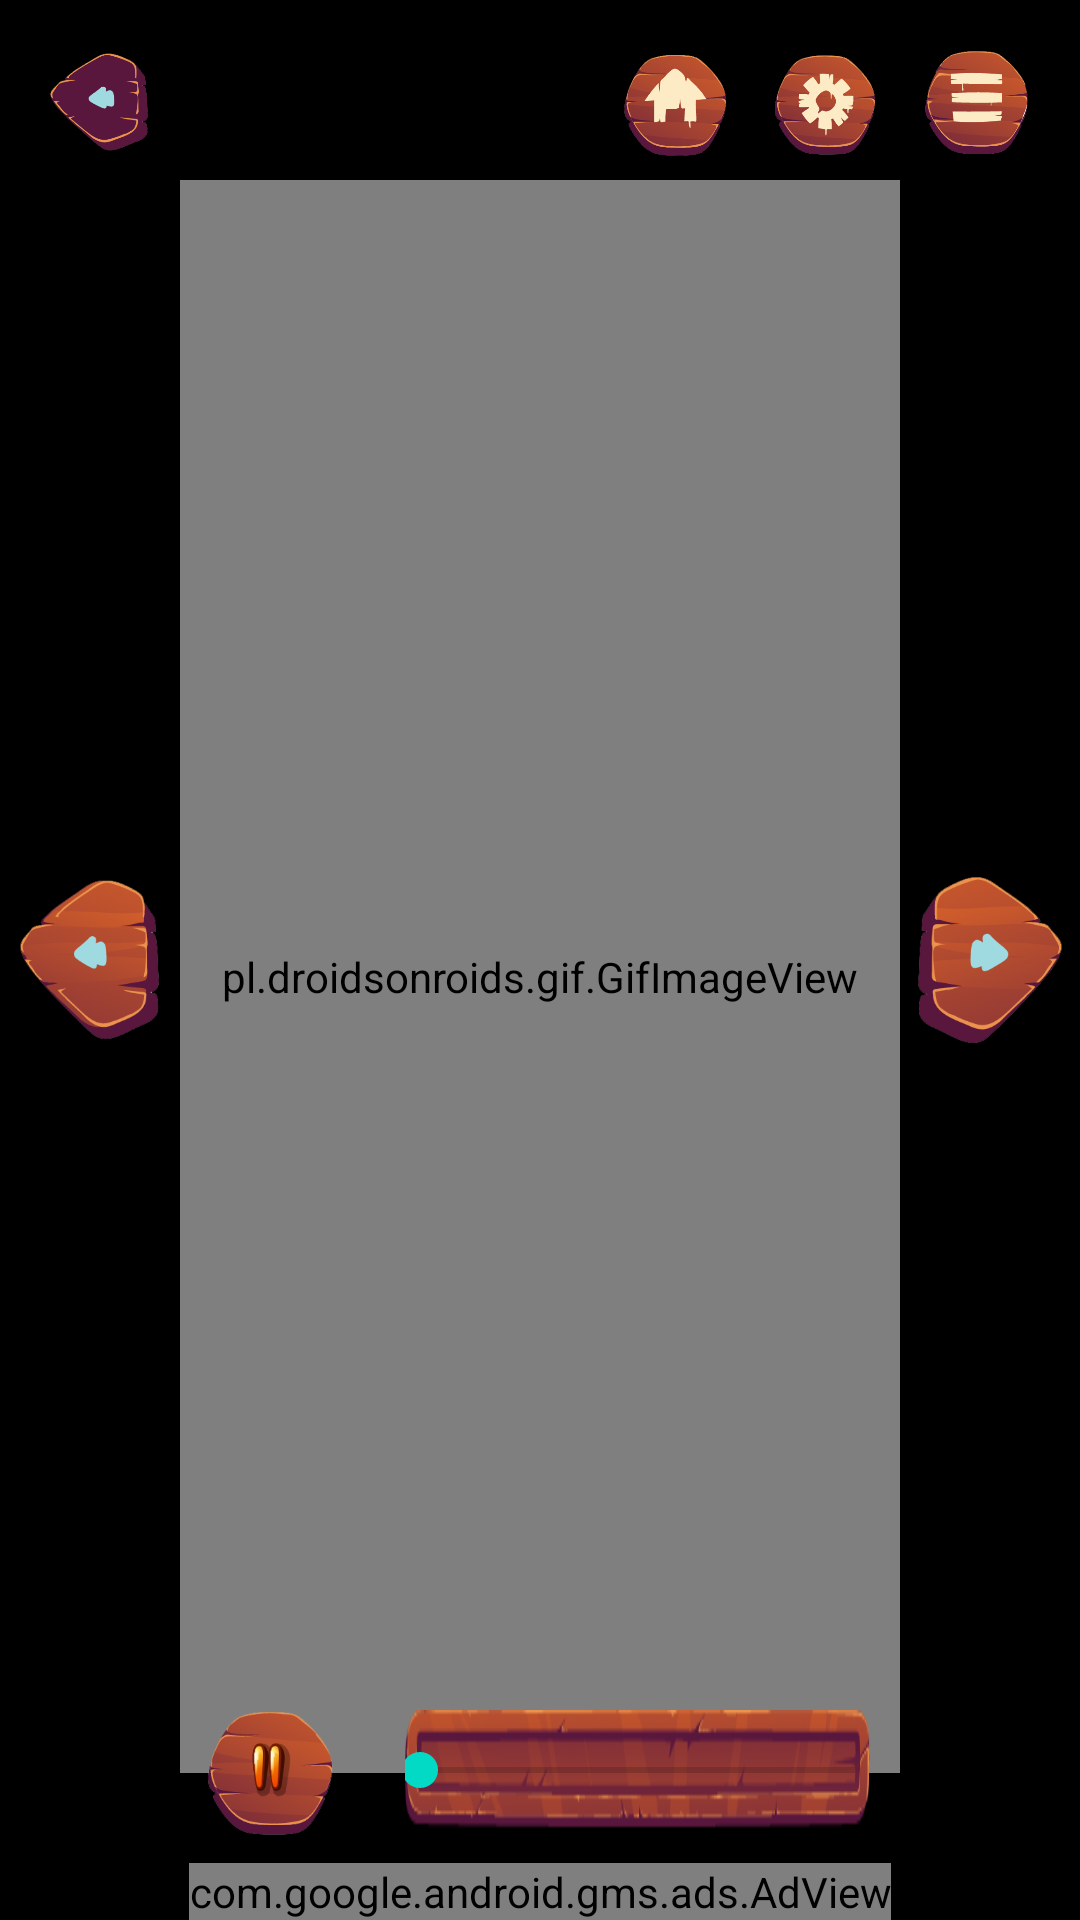

Icon click points for this 1080 × 1920 phone screenshot, format (x,y):
back: (99,102)
home: (675,105)
menu: (976,102)
next: (990,960)
pause: (270,1787)
pre: (89,959)
setting: (825,105)
